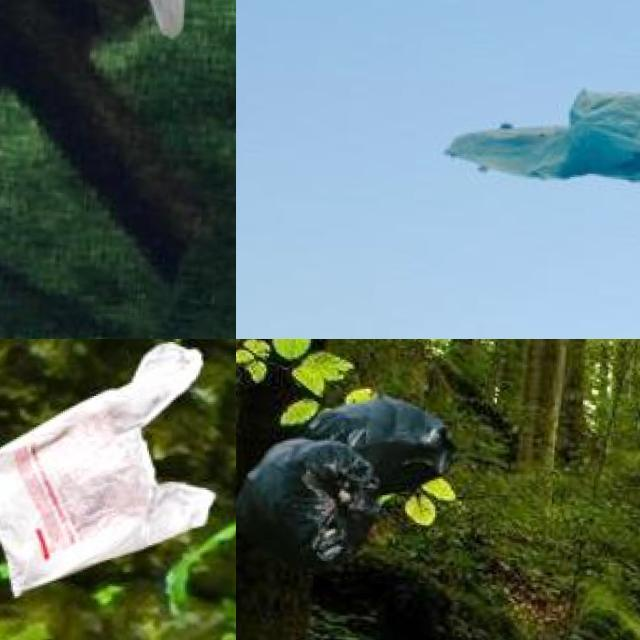waste: (0, 339, 218, 602), (443, 82, 640, 193), (236, 433, 373, 558), (304, 392, 459, 482)
